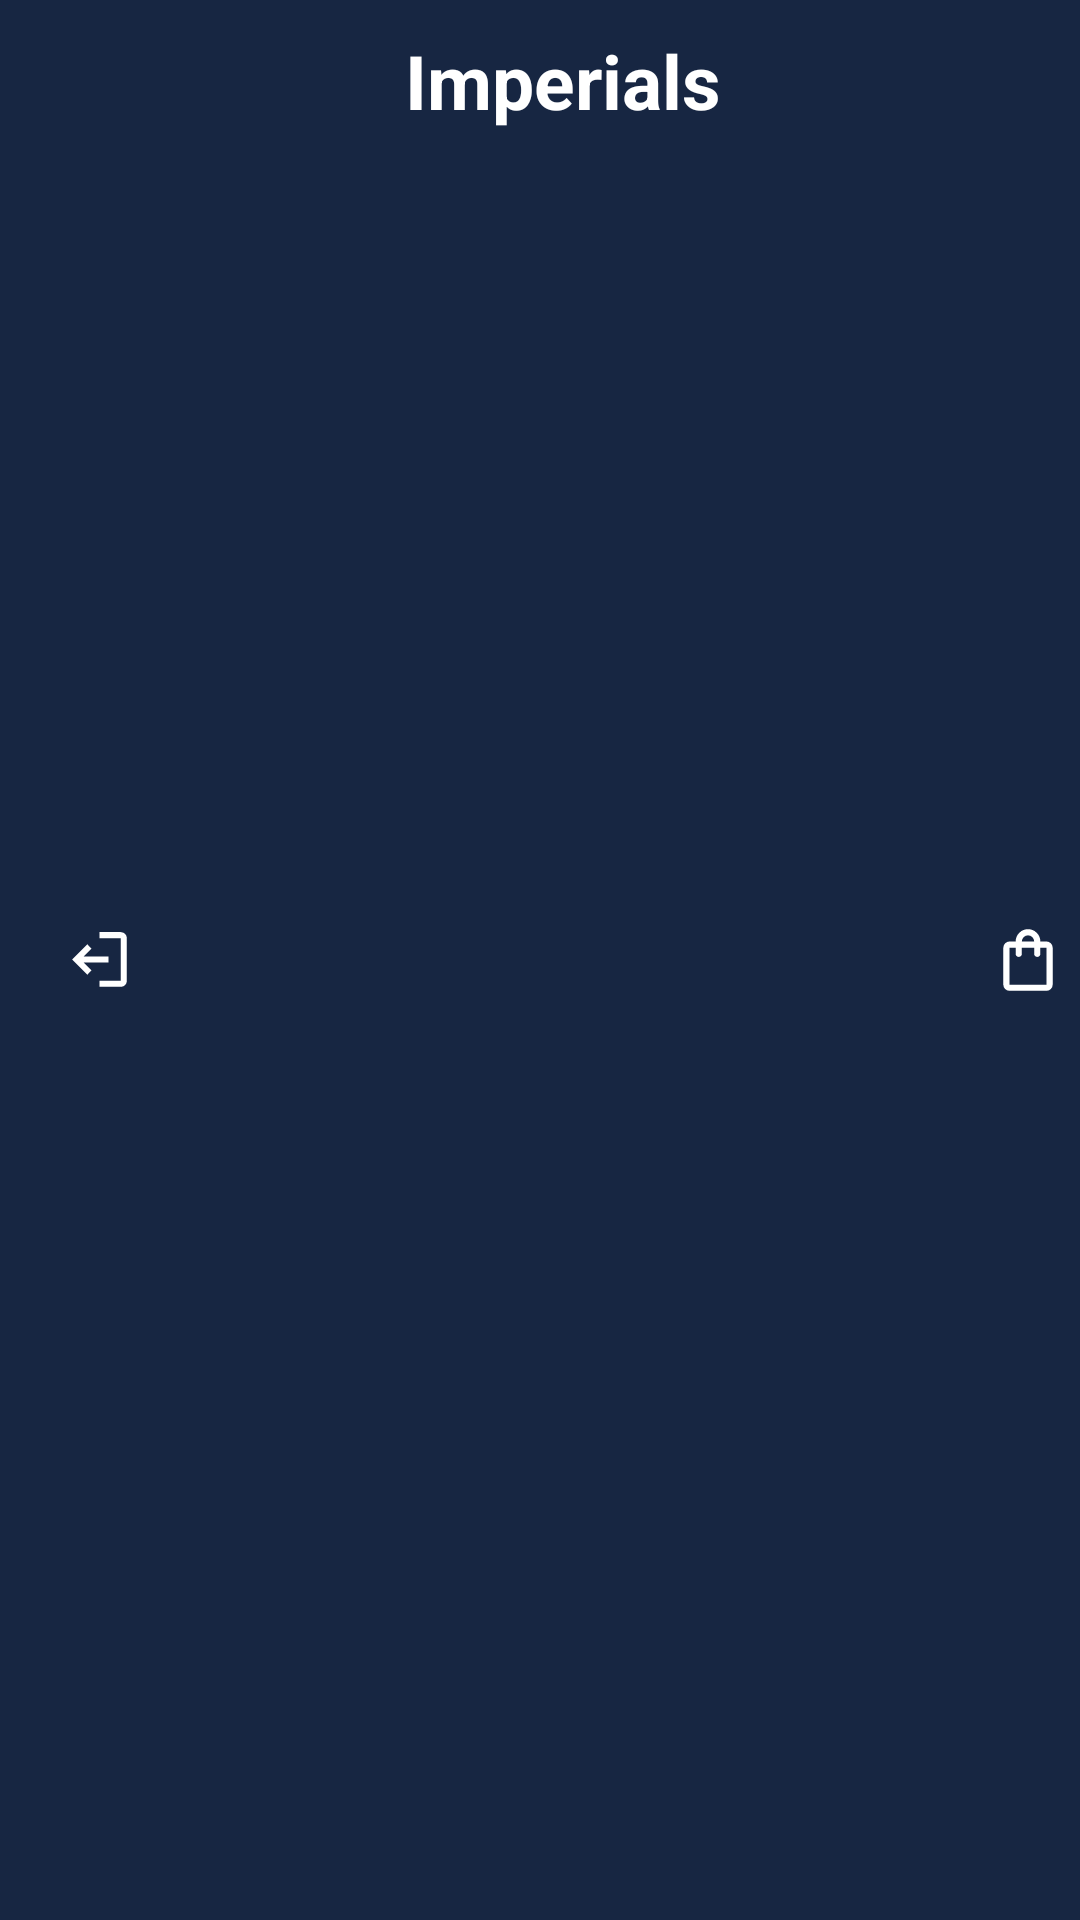

Point at icon controls on the screen. Image size 1080×1920, points as (x,y).
shopping bag: (1028,960)
